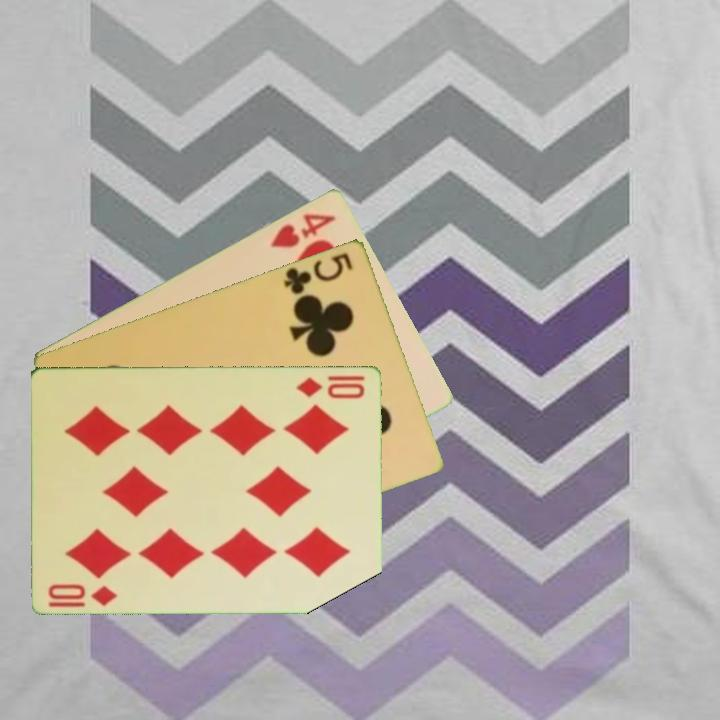10d: (293, 371, 369, 401), (45, 580, 120, 609)
4h: (267, 209, 339, 251)
5c: (280, 248, 356, 297)
